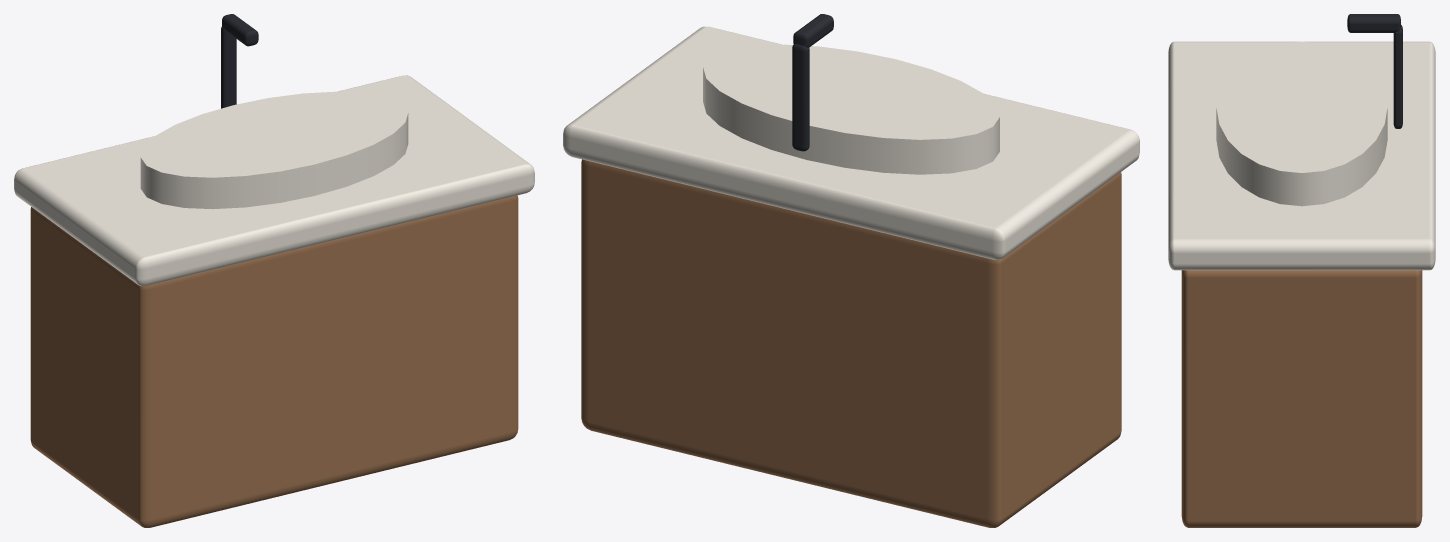
File: bathroom-vanity.glb
3 renders of one model, left to right at view 1: azimuth 30°, elevation 25°; view 2: azimuth 150°, elevation 25°; view 3: azimuth 270°, elevation 25°, orthographic. The views are drawn at different scales.
Bounding box in the file's own units: 1 × 0.95 × 0.55.
